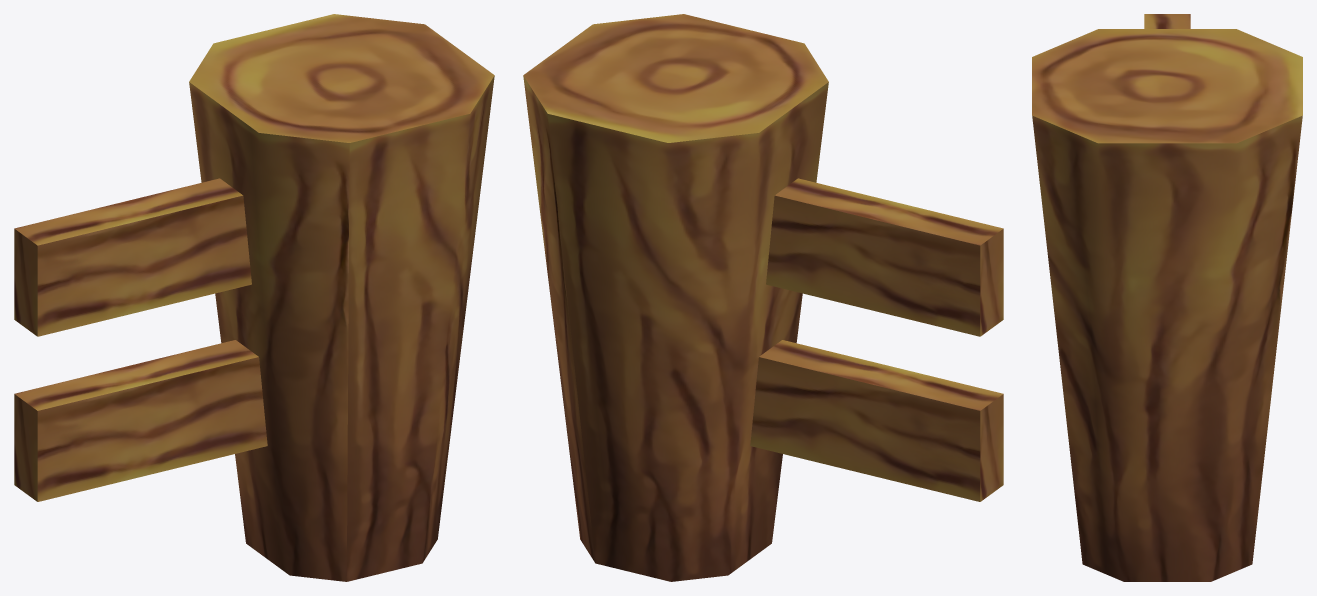
The model's file is Woodfence Edge_HD.fbx.
The picture shows the model from 3 angles, left to right: view 1: azimuth 30°, elevation 25°; view 2: azimuth 150°, elevation 25°; view 3: azimuth 270°, elevation 25°; orthographic projection.
Visible parts, largest first — view 1: Woodfence_edge; view 2: Woodfence_edge; view 3: Woodfence_edge.
Part boxes in pixels (bbox=[...]): Woodfence_edge: bbox=[14, 14, 494, 581]; Woodfence_edge: bbox=[523, 14, 1003, 581]; Woodfence_edge: bbox=[1032, 14, 1302, 581].
Bounding box in the file's own units: 0.6867 × 0.7 × 0.3734.
